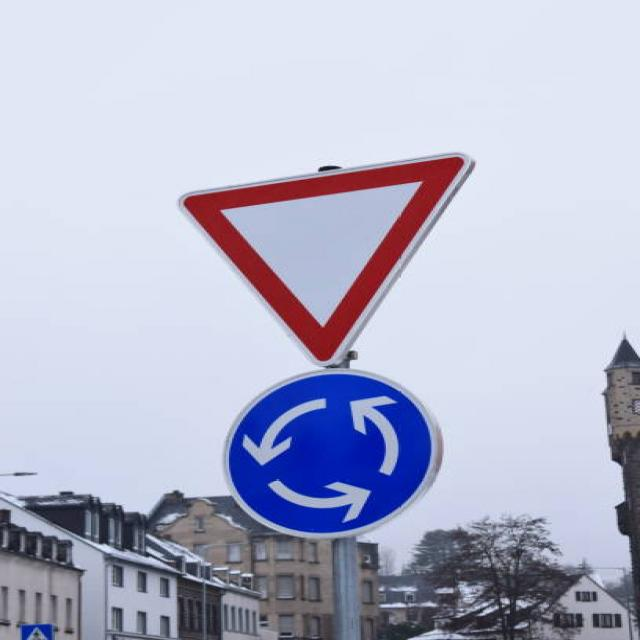give_way: (158, 145, 519, 371)
